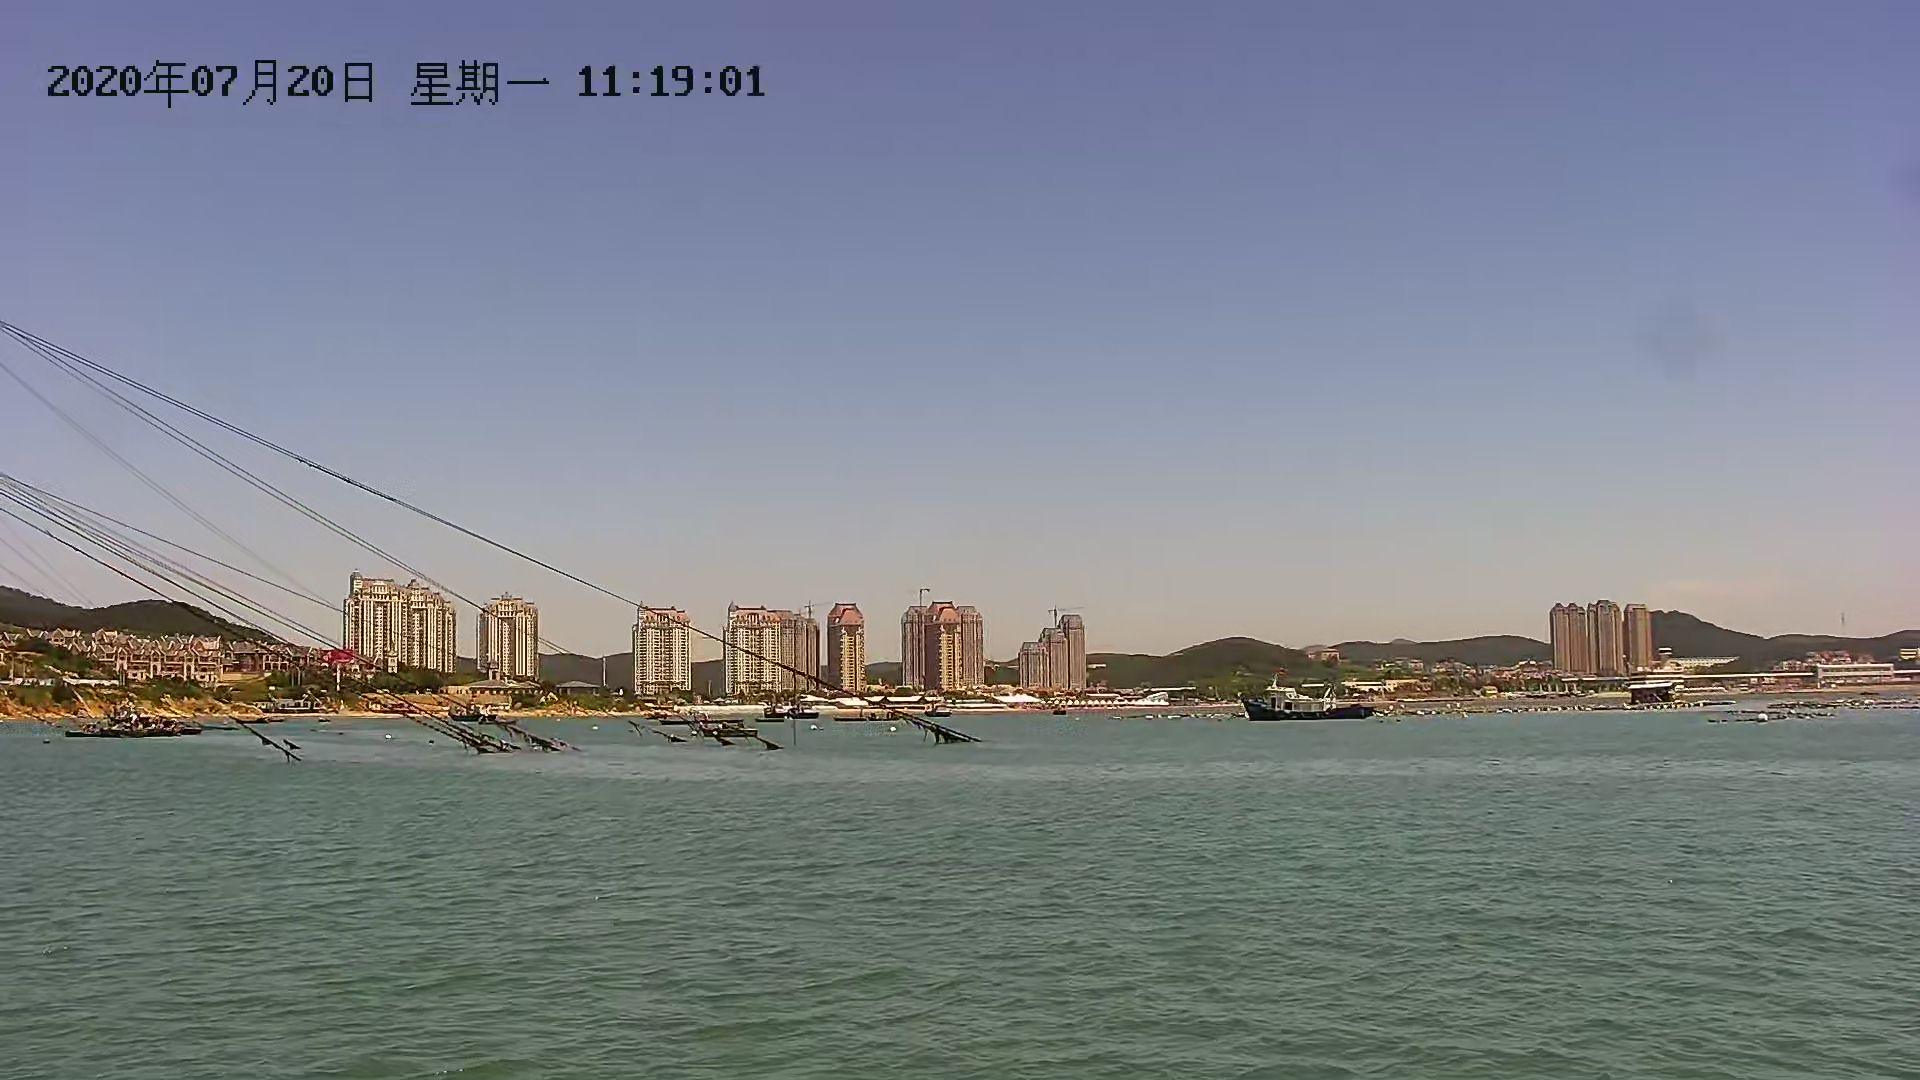boat: (51, 698, 214, 745), (1233, 671, 1382, 723)
